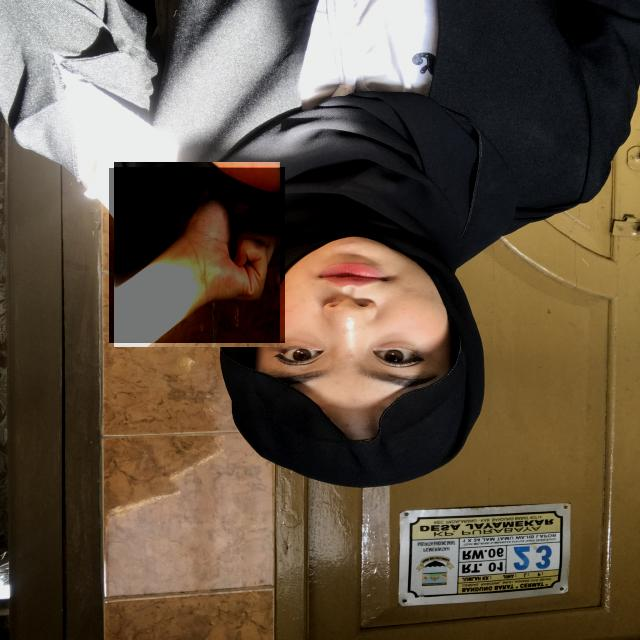ibu: (109, 166, 285, 342)
